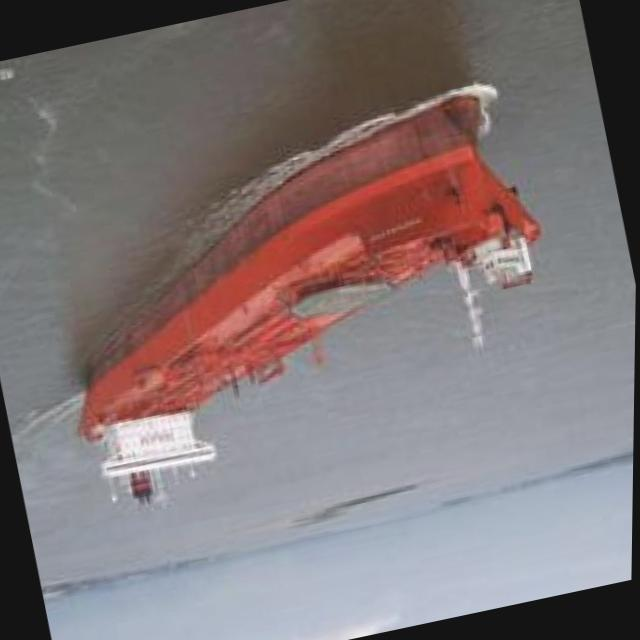ship2: (78, 80, 543, 512)
